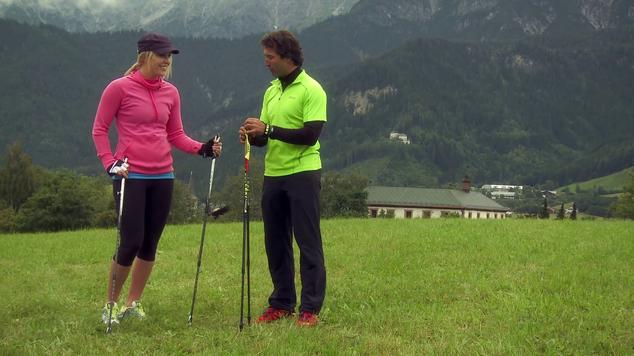stay: (237, 24, 326, 267)
